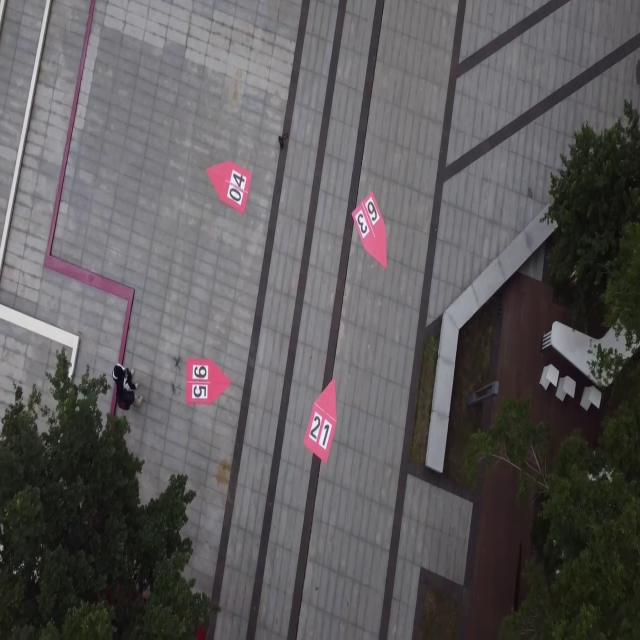-sign-: (303, 377, 337, 465), (351, 190, 387, 271), (206, 159, 253, 215), (186, 358, 232, 406)
